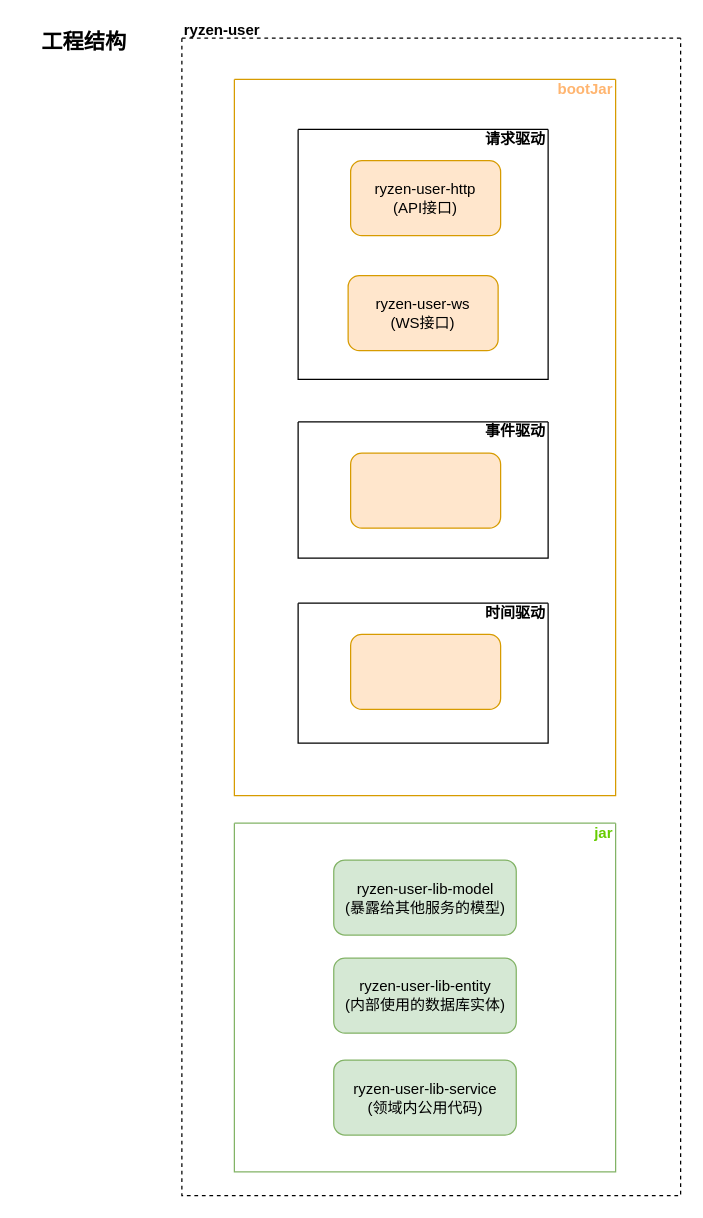
Image size: 703x1218. Some labels were removed from this diagram. The centre of each missing label's shape, as x and y in pixels:
ryzen-user-job (定时任务): [425,671]
ryzen-user-stream （事件处理）: [425,490]
